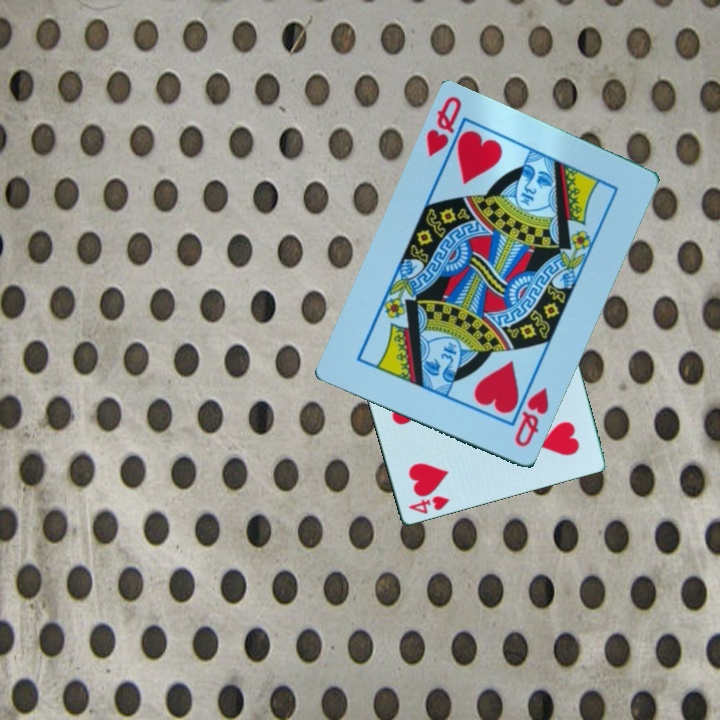4h: (404, 492, 453, 517)
Qh: (422, 93, 465, 161), (511, 384, 553, 451)
